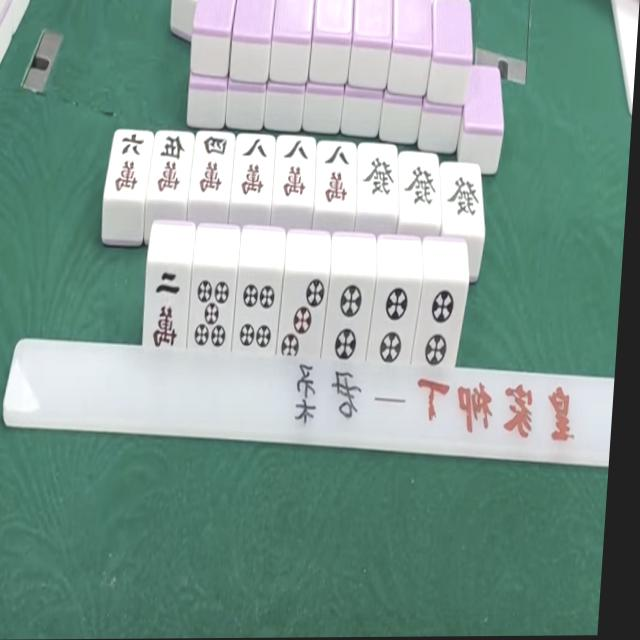2C: (142, 266, 189, 351)
2D: (413, 281, 466, 371), (367, 280, 418, 367), (321, 277, 372, 364)
3D: (276, 275, 327, 361)
4C: (191, 134, 232, 200)
4D: (231, 272, 281, 356)
5C: (150, 135, 191, 199)
5D: (186, 269, 234, 353)
6C: (110, 134, 147, 197)
8C: (315, 145, 357, 208), (275, 139, 315, 203), (234, 138, 273, 201)
GD: (398, 152, 441, 215), (441, 165, 482, 228), (357, 148, 398, 207)
